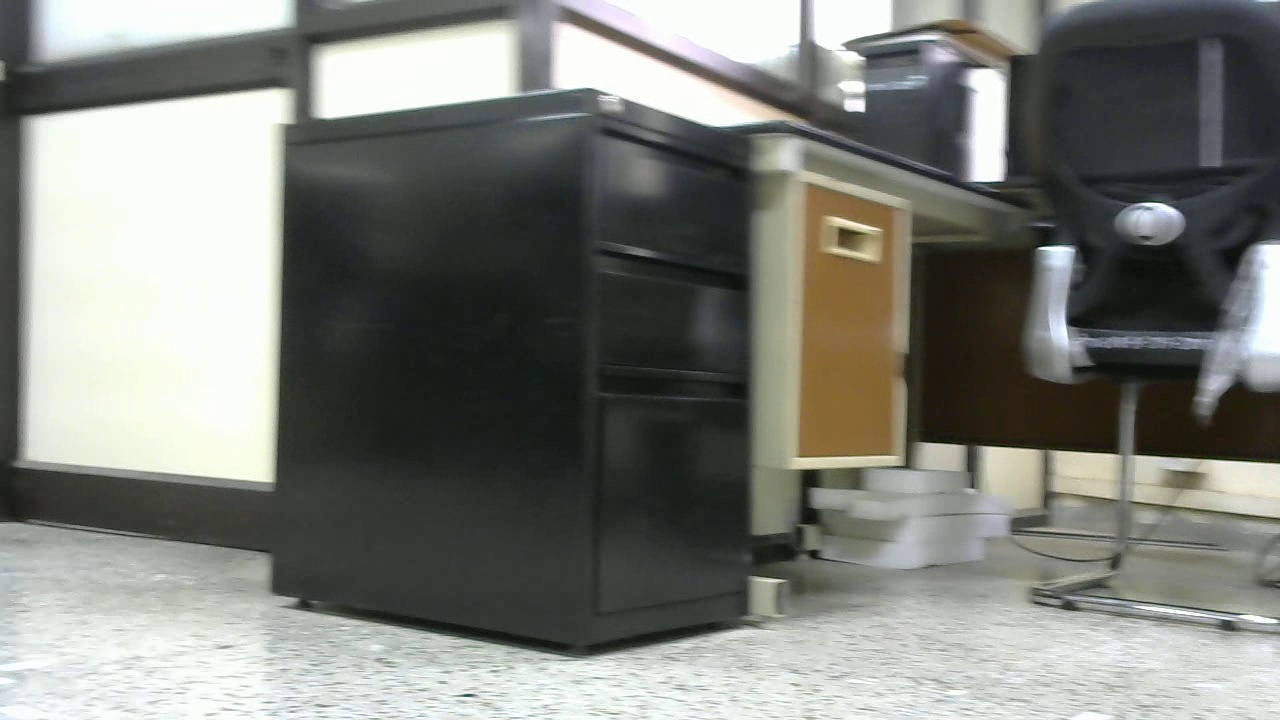chair: (1014, 3, 1280, 639)
